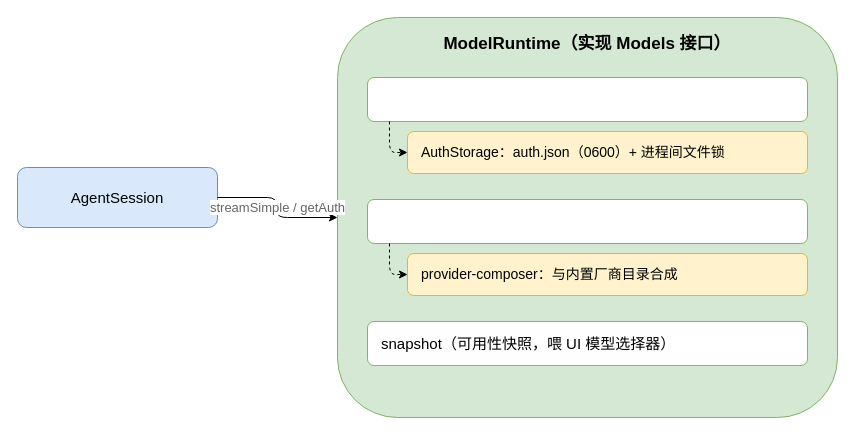
The diagram is 855 pixels wide and 435 high, and some of its shapes have lost their labels. Each missing label, with the centre of its shape:
ModelConfig（models.json 用户配置）: pixel 587 221
RuntimeCredentials（内存覆盖层）: pixel 587 99
